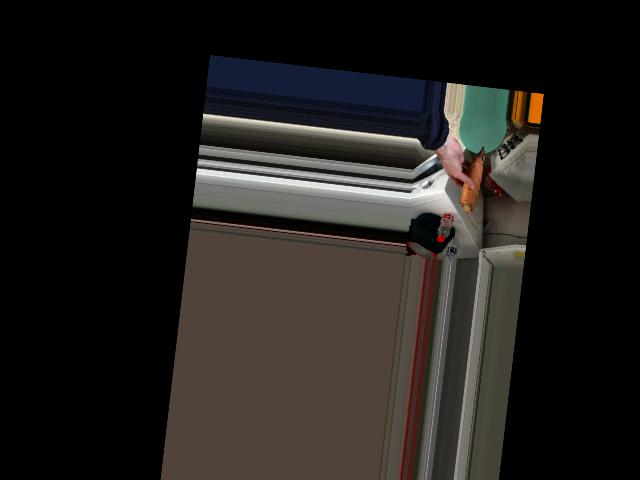sweet_potato: (456, 148, 482, 216)
